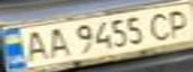4: (90, 18, 115, 51)
5: (124, 12, 151, 46), (109, 16, 130, 48)
9: (69, 21, 97, 55)
A: (18, 28, 51, 64), (42, 25, 72, 61)
C: (145, 9, 175, 42)
P: (160, 7, 193, 38)
